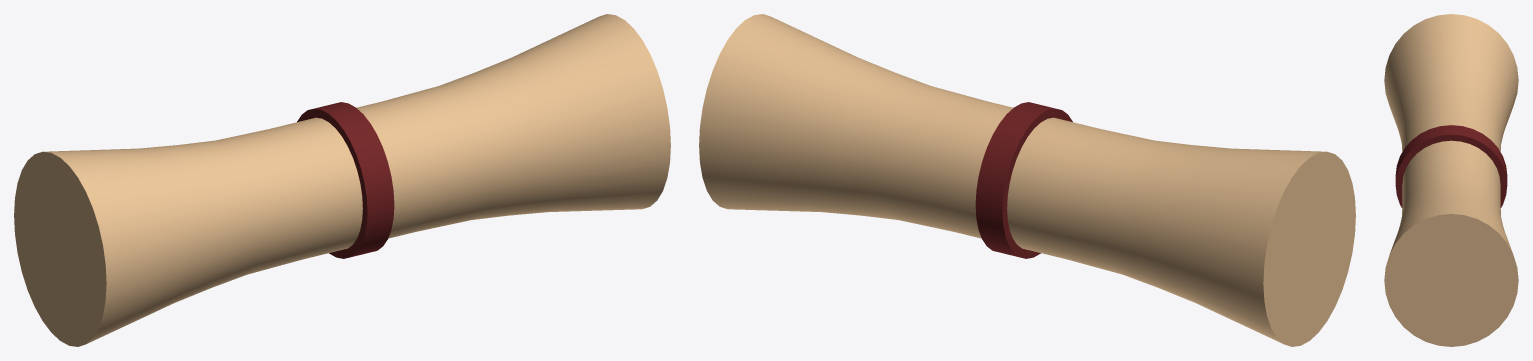
Rendered from ParcheminFerme_00.fbx.
The picture shows the model from 3 angles, left to right: view 1: azimuth 30°, elevation 25°; view 2: azimuth 150°, elevation 25°; view 3: azimuth 270°, elevation 25°; orthographic projection. The views are drawn at different scales.
Parts seen in each view (by area): view 1: ParcheminFerme_00; view 2: ParcheminFerme_00; view 3: ParcheminFerme_00.
Boxes of the visible parts, x1,y1,x2,y2 form: ParcheminFerme_00: (14,14,670,346); ParcheminFerme_00: (699,14,1355,346); ParcheminFerme_00: (1384,14,1518,346).
Bounding box in the file's own units: 0.75 × 0.2328 × 0.213.
